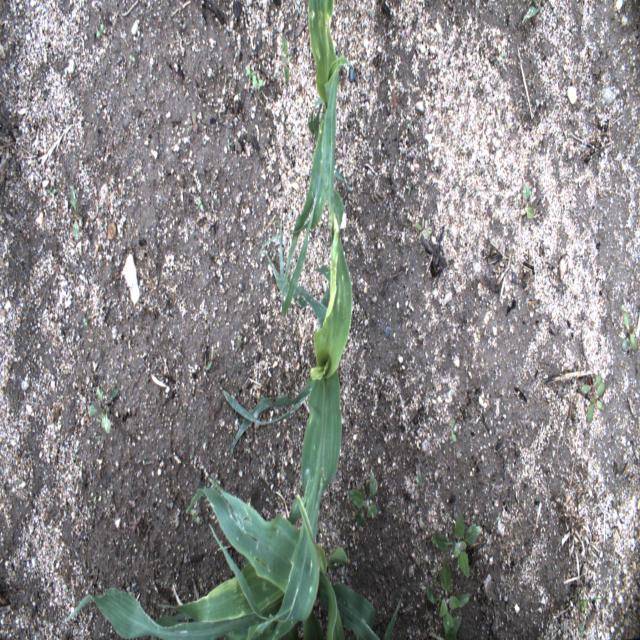crop: (61, 479, 401, 639), (220, 194, 354, 560), (267, 1, 349, 314)
weed: (434, 506, 482, 580), (423, 567, 467, 637), (346, 466, 377, 523), (83, 388, 125, 430), (579, 369, 607, 428), (241, 56, 273, 91), (518, 179, 538, 222), (622, 306, 638, 350)
